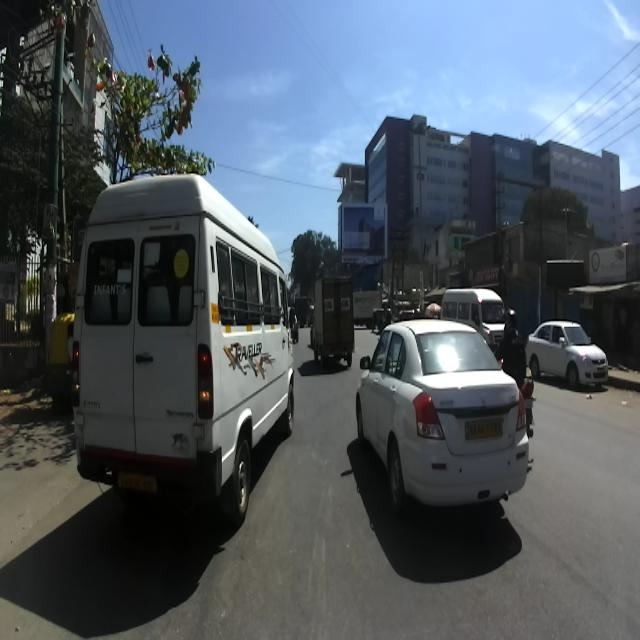bus ahead at: (65, 164, 292, 519)
car ahead at: (352, 314, 534, 526)
